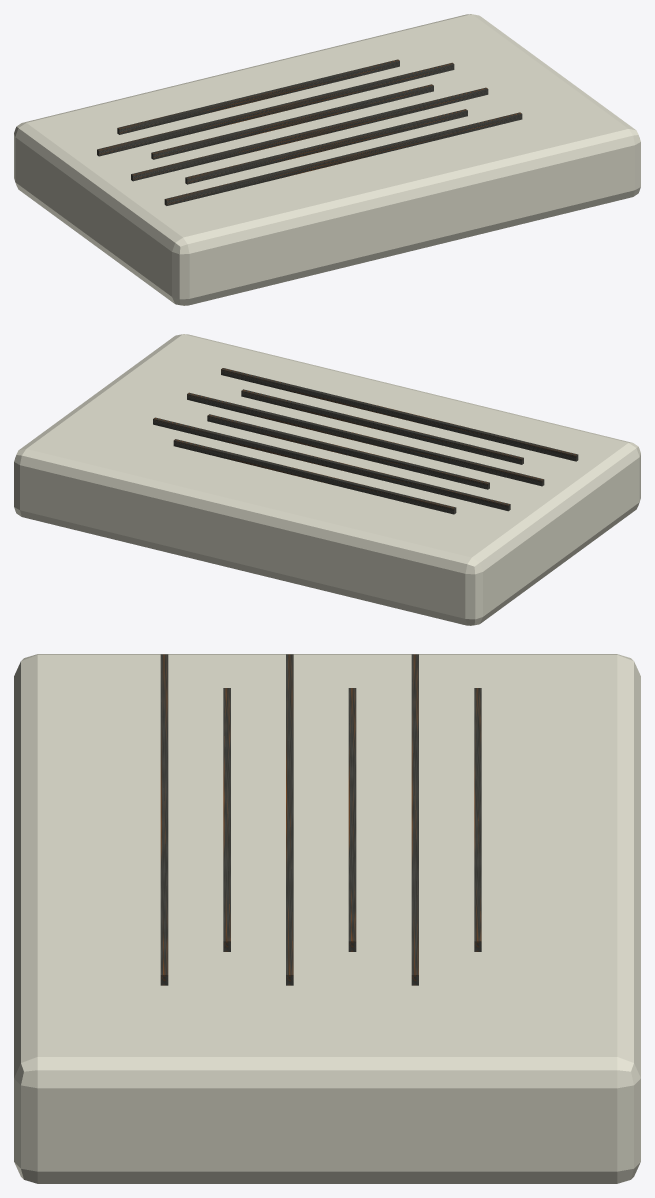
File: kartu.glb
The picture shows the model from 3 angles, top to bottom: view 1: azimuth 30°, elevation 25°; view 2: azimuth 150°, elevation 25°; view 3: azimuth 270°, elevation 25°; orthographic projection. The views are drawn at different scales.
Visible parts, largest first — view 1: Lembar.002, Garis.012, Garis.016, Garis.014, Garis.015, Garis.013, Garis.017; view 2: Lembar.002, Garis.012, Garis.016, Garis.014, Garis.017, Garis.013, Garis.015; view 3: Lembar.002, Garis.012, Garis.014, Garis.016, Garis.015, Garis.013, Garis.017.
Boxes of the visible parts, x1=… form: Lembar.002: x1=14, y1=14, x2=640, y2=305; Garis.012: x1=164, y1=112, x2=522, y2=205; Garis.016: x1=97, y1=62, x2=454, y2=156; Garis.014: x1=131, y1=87, x2=488, y2=181; Garis.015: x1=151, y1=84, x2=433, y2=159; Garis.013: x1=185, y1=109, x2=467, y2=184; Garis.017: x1=117, y1=59, x2=399, y2=134; Lembar.002: x1=14, y1=334, x2=640, y2=625; Garis.012: x1=221, y1=368, x2=578, y2=461; Garis.016: x1=153, y1=417, x2=510, y2=511; Garis.014: x1=187, y1=392, x2=544, y2=486; Garis.017: x1=173, y1=439, x2=456, y2=514; Garis.013: x1=241, y1=389, x2=523, y2=464; Garis.015: x1=207, y1=414, x2=489, y2=489; Lembar.002: x1=14, y1=654, x2=640, y2=1183; Garis.012: x1=160, y1=654, x2=168, y2=985; Garis.014: x1=286, y1=654, x2=293, y2=985; Garis.016: x1=411, y1=654, x2=418, y2=985; Garis.015: x1=348, y1=688, x2=356, y2=951; Garis.013: x1=223, y1=688, x2=230, y2=951; Garis.017: x1=474, y1=688, x2=481, y2=951.
Size of the model in its own units: 0.086 by 0.0135 by 0.054.
Materials: 2 (1 with a texture image).
